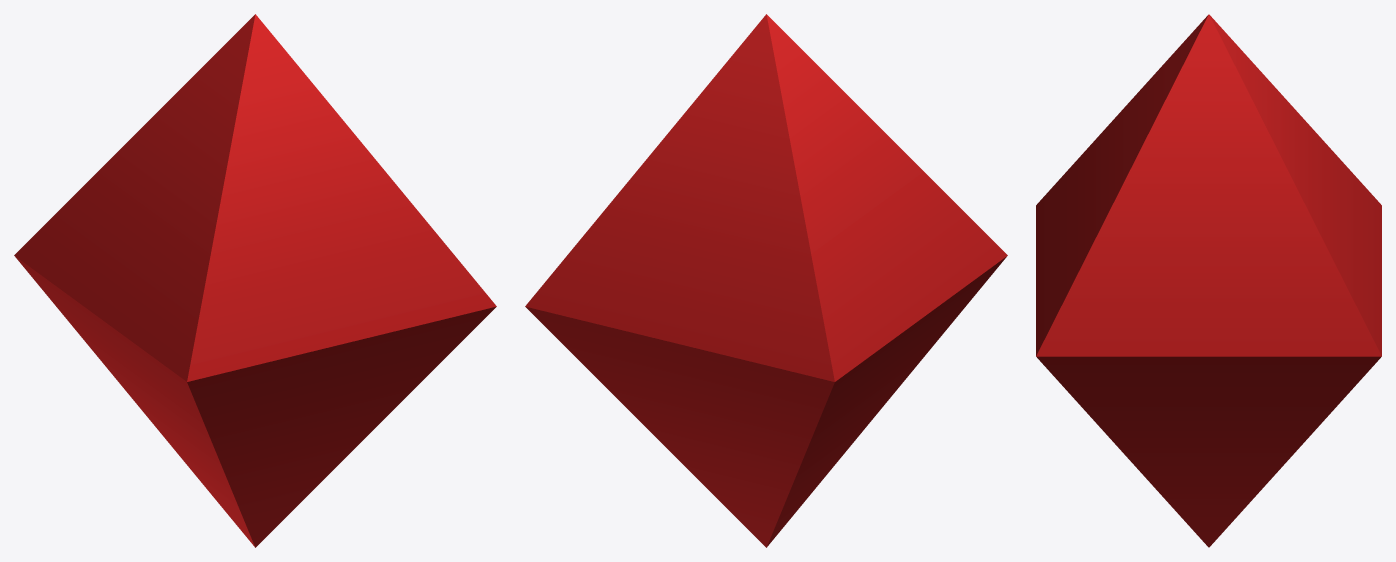
Rendered from redEnemy.FBX.
3 views of the same model, side by side, from view 1: azimuth 30°, elevation 25°; view 2: azimuth 150°, elevation 25°; view 3: azimuth 270°, elevation 25° (orthographic).
Parts seen in each view (by area): view 1: Pyramid001, Pyramid002; view 2: Pyramid001, Pyramid002; view 3: Pyramid001, Pyramid002.
Part boxes in pixels (bbox=[...]): Pyramid001: bbox=[14, 14, 496, 381]; Pyramid002: bbox=[15, 256, 496, 547]; Pyramid001: bbox=[525, 14, 1007, 381]; Pyramid002: bbox=[525, 256, 1006, 547]; Pyramid001: bbox=[1036, 14, 1381, 356]; Pyramid002: bbox=[1036, 356, 1381, 547].
Size of the model in its own units: 27.18 by 44.76 by 26.28.
Materials: 1 (1 with a texture image).
